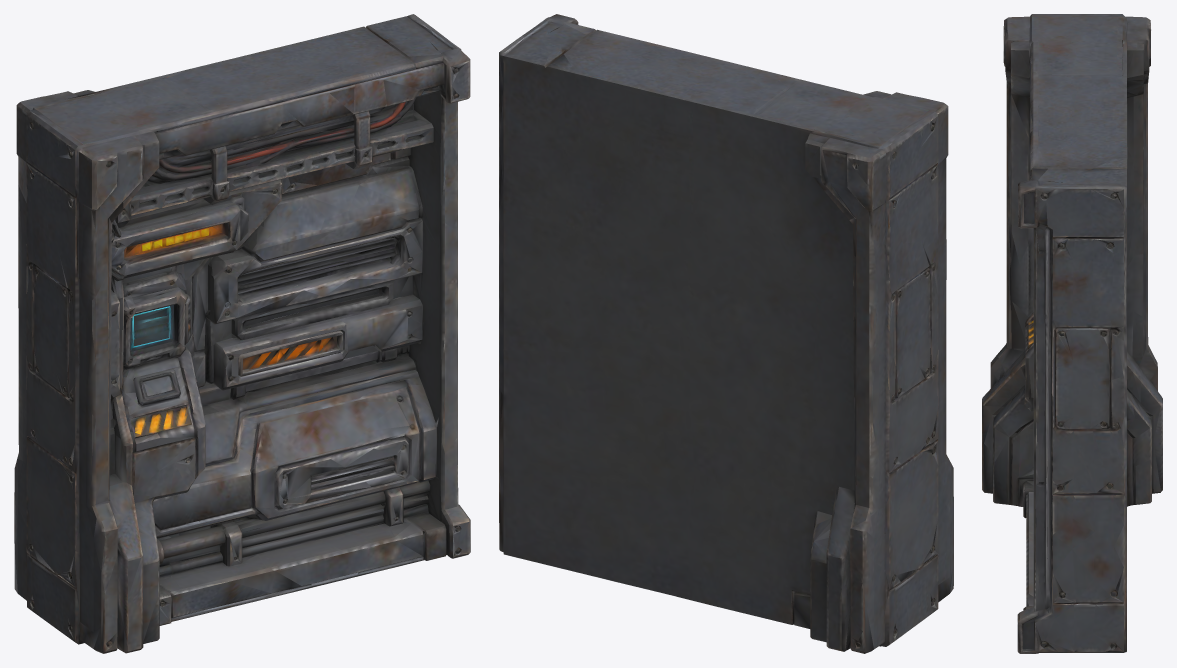
File: SecurityBulkhead.glb
3 renders of one model, left to right at view 1: azimuth 30°, elevation 25°; view 2: azimuth 150°, elevation 25°; view 3: azimuth 270°, elevation 25°, orthographic. The views are drawn at different scales.
Visible parts, largest first — view 1: tripo_node_f60082e1-a92e-4dce-a42b-5295589ada23; view 2: tripo_node_f60082e1-a92e-4dce-a42b-5295589ada23; view 3: tripo_node_f60082e1-a92e-4dce-a42b-5295589ada23.
Part boxes in pixels (bbox=[...]): tripo_node_f60082e1-a92e-4dce-a42b-5295589ada23: bbox=[14, 14, 470, 653]; tripo_node_f60082e1-a92e-4dce-a42b-5295589ada23: bbox=[499, 14, 953, 653]; tripo_node_f60082e1-a92e-4dce-a42b-5295589ada23: bbox=[982, 14, 1162, 653].
Bounding box in the file's own units: 0.7979 × 0.9797 × 0.3439.
Materials: 1 (1 with a texture image).
